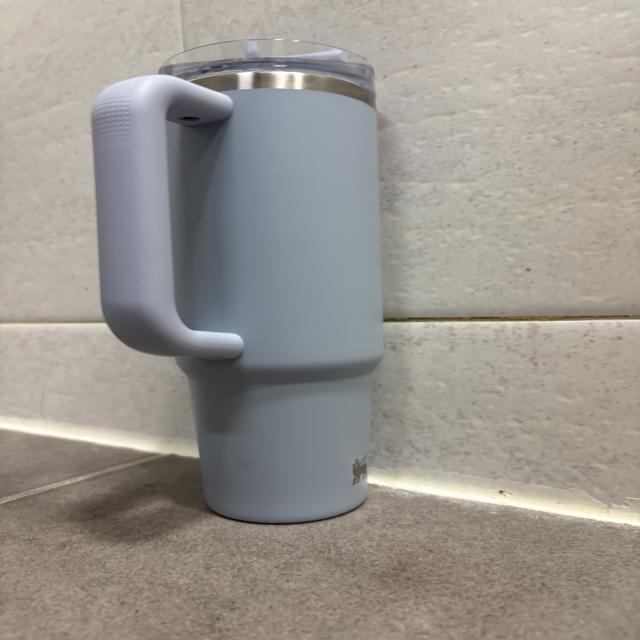waterbottle: (92, 38, 384, 524)
